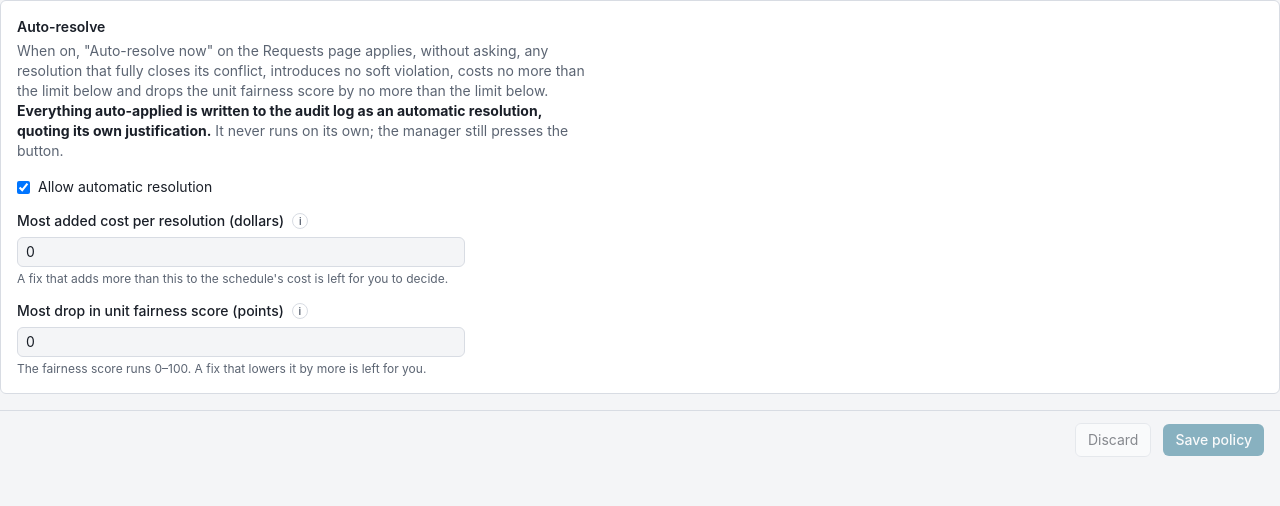
Test: Settings › Conflicts › says Saved after the policy is saved
This screenshot has width=1280, height=506.
Replace the text in the number field labelled "Most added cost per resolution (dollars)" with "200" at (241, 252), box [17,237,465,267]
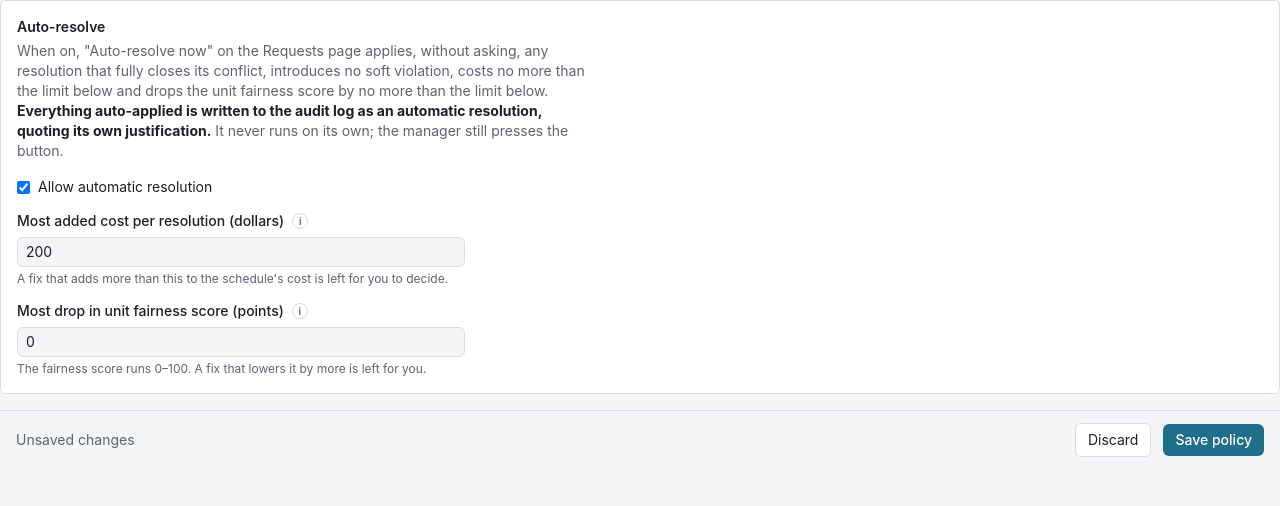
Click the button "Save policy" at (1214, 440), box [1164,424,1264,456]
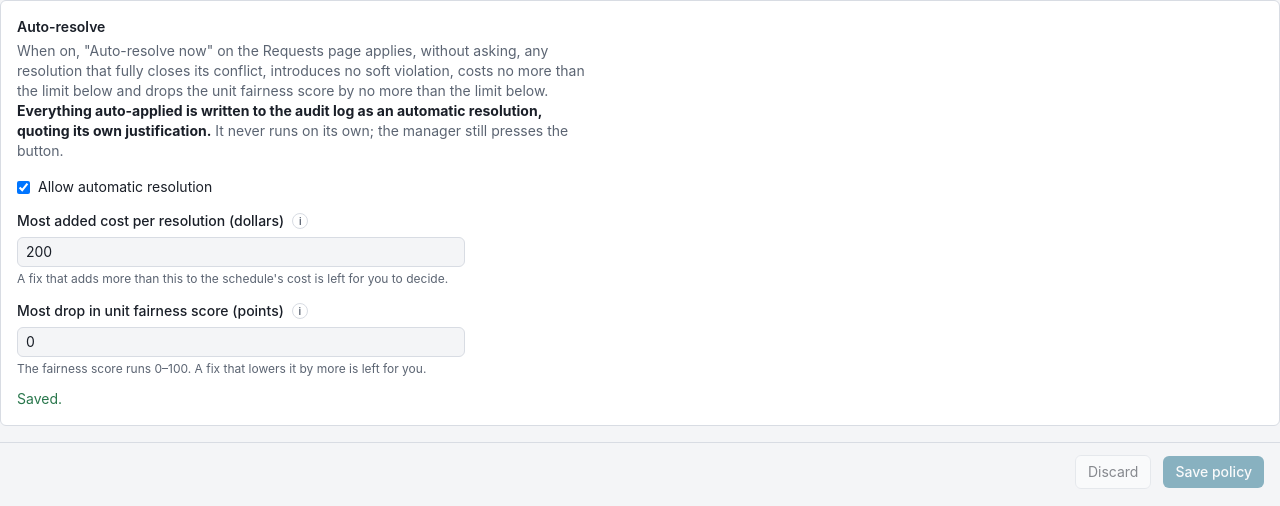
Check: the message reads "Saved.", box [17,390,62,407]
